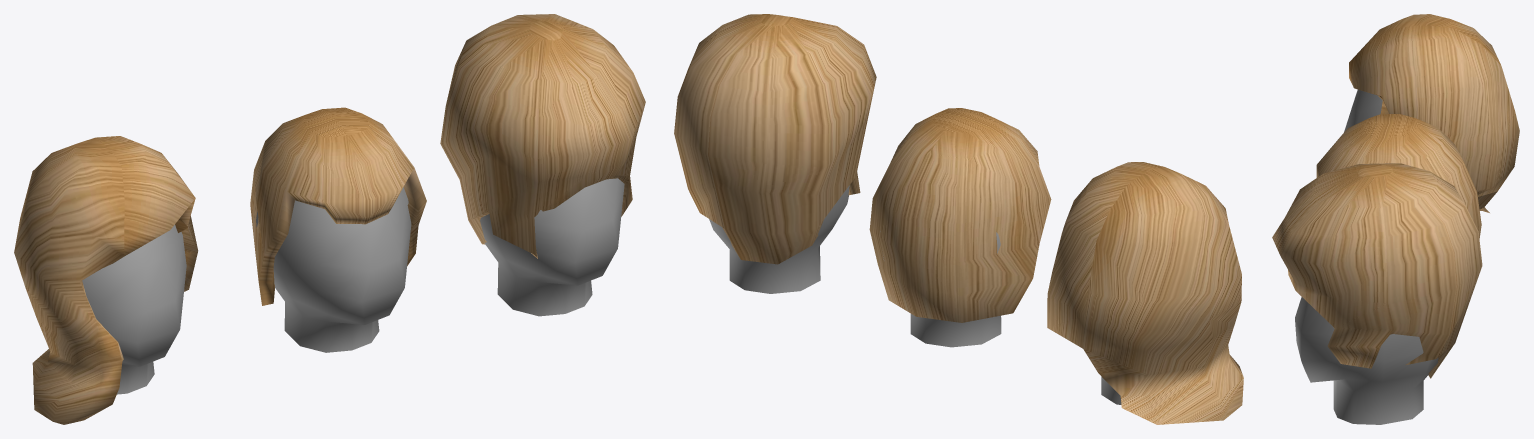
Rendered from Wigs.fbx.
The picture shows the model from 3 angles, left to right: view 1: azimuth 30°, elevation 25°; view 2: azimuth 150°, elevation 25°; view 3: azimuth 270°, elevation 25°; orthographic projection. The views are drawn at different scales.
Visible parts, largest first — view 1: Hair3, Hair1, Hair2, Head2, Head3, Head1; view 2: Hair1, Hair3, Hair2, Head3, Head2; view 3: Hair3, Hair1, Head3, Hair2, Head1.
Boxes of the visible parts, x1,y1,x2,y2 form: Hair3: (440, 14, 645, 258); Hair1: (14, 136, 198, 424); Hair2: (250, 107, 426, 305); Head2: (256, 187, 411, 352); Head3: (480, 178, 624, 316); Head1: (82, 225, 186, 394); Hair1: (1047, 162, 1243, 424); Hair3: (674, 14, 876, 264); Hair2: (869, 108, 1051, 322); Head3: (709, 185, 849, 293); Head2: (880, 231, 1001, 347); Hair3: (1272, 163, 1482, 378); Hair1: (1349, 14, 1519, 212); Head3: (1295, 297, 1438, 424); Hair2: (1316, 114, 1481, 238); Head1: (1344, 89, 1382, 131).
Bounding box in the file's own units: 2.09 × 0.9624 × 0.8581.
